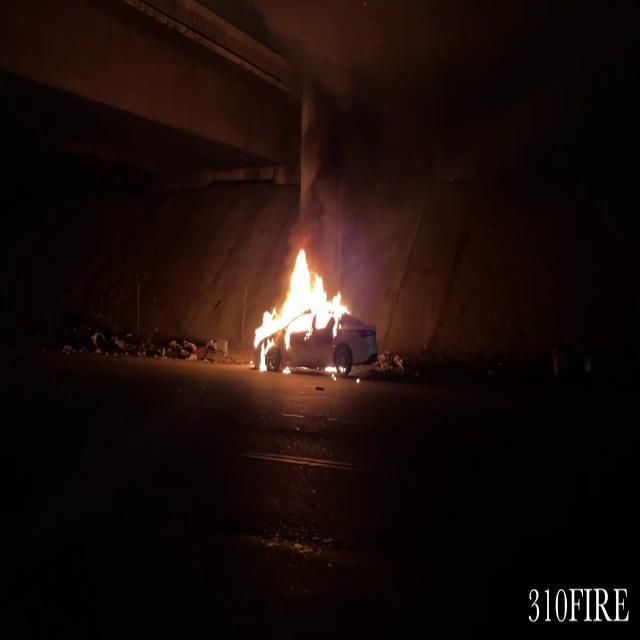Fire: (248, 241, 354, 370)
Smoke: (294, 76, 390, 264)
